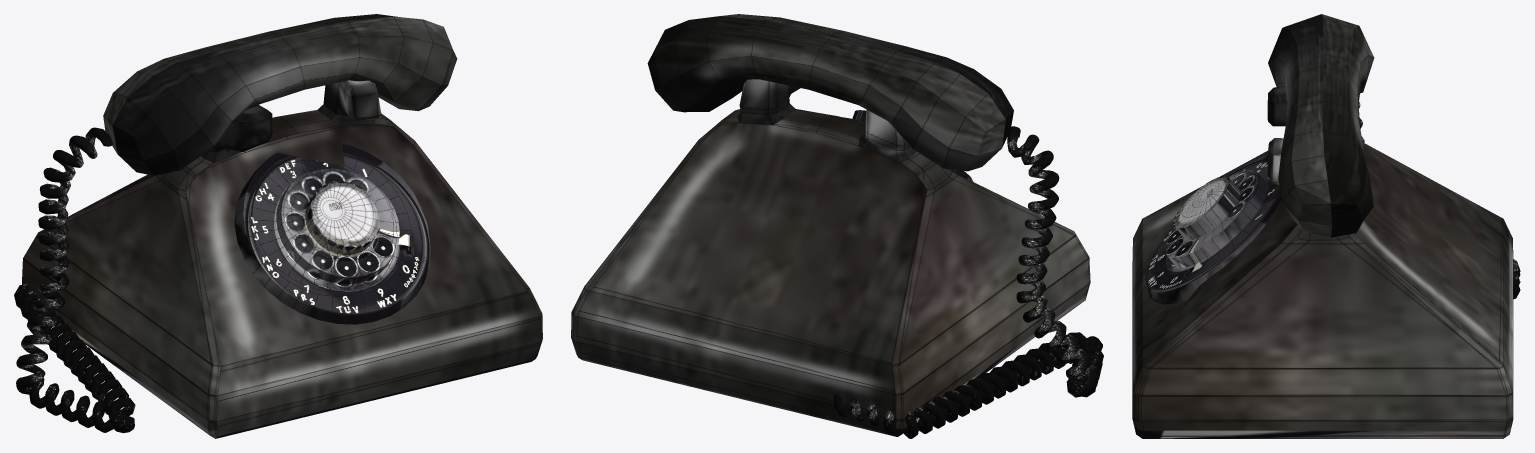
The model's file is Rotary Phone.fbx.
The picture shows the model from 3 angles, left to right: view 1: azimuth 30°, elevation 25°; view 2: azimuth 150°, elevation 25°; view 3: azimuth 270°, elevation 25°; orthographic projection.
Parts seen in each view (by area): view 1: Cube.002, Cube.003, Circle.001, Circle; view 2: Cube.002, Cube.003, Circle; view 3: Cube.002, Cube.003, Circle.001.
Boxes of the visible parts, <box> form: Cube.002: <box>22,80,542,438</box>; Cube.003: <box>103,14,457,175</box>; Circle.001: <box>234,144,430,324</box>; Circle: <box>14,127,135,433</box>; Cube.002: <box>571,79,1090,436</box>; Cube.003: <box>647,14,1013,171</box>; Circle: <box>833,126,1103,438</box>; Cube.002: <box>1132,86,1513,438</box>; Cube.003: <box>1268,14,1374,237</box>; Circle.001: <box>1145,155,1281,304</box>.
Bounding box in the file's own units: 35.57 × 24.36 × 27.73.
